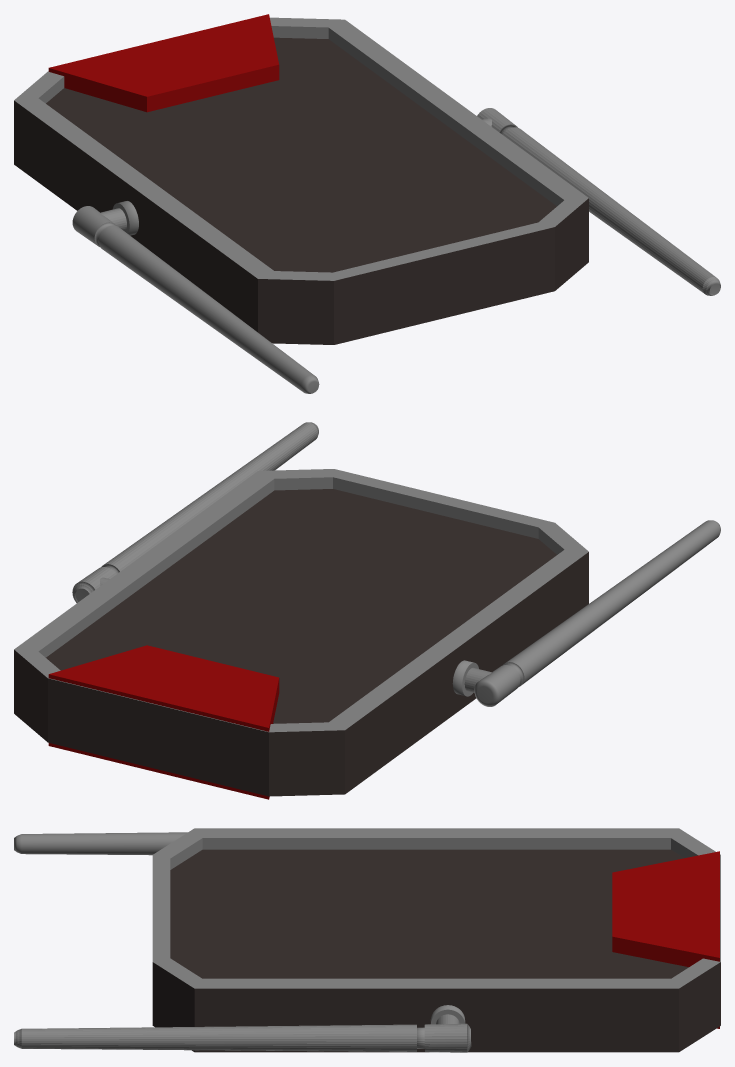
The model's file is router_tier10.fbx.
The picture shows the model from 3 angles, top to bottom: view 1: azimuth 30°, elevation 25°; view 2: azimuth 150°, elevation 25°; view 3: azimuth 270°, elevation 25°; orthographic projection.
Parts seen in each view (by area): view 1: Cube.002, Cube.004, Cylinder.001, Cylinder.003, Cylinder; view 2: Cube.002, Cube.004, Cylinder.001, Cylinder.003, Cylinder, Cube.001; view 3: Cube.002, Cylinder.003, Cube.004, Cylinder.001, Cylinder.002.
Part boxes in pixels (left/top/right/bottom): Cube.002: left=14, top=17, right=588, bottom=344; Cube.004: left=48, top=14, right=279, bottom=112; Cylinder.001: left=72, top=206, right=319, bottom=393; Cylinder.003: left=477, top=108, right=720, bottom=295; Cylinder: left=100, top=201, right=138, bottom=235; Cube.002: left=14, top=469, right=588, bottom=796; Cube.004: left=48, top=645, right=279, bottom=731; Cylinder.001: left=474, top=520, right=720, bottom=706; Cylinder.003: left=72, top=422, right=318, bottom=602; Cylinder: left=452, top=660, right=491, bottom=696; Cube.001: left=48, top=743, right=269, bottom=799; Cube.002: left=152, top=828, right=720, bottom=1052; Cylinder.003: left=14, top=1023, right=471, bottom=1052; Cube.004: left=612, top=851, right=719, bottom=966; Cylinder.001: left=14, top=832, right=187, bottom=855; Cylinder.002: left=430, top=1005, right=465, bottom=1024.
Size of the model in its own units: 0.687 by 0.1101 by 0.9914.
